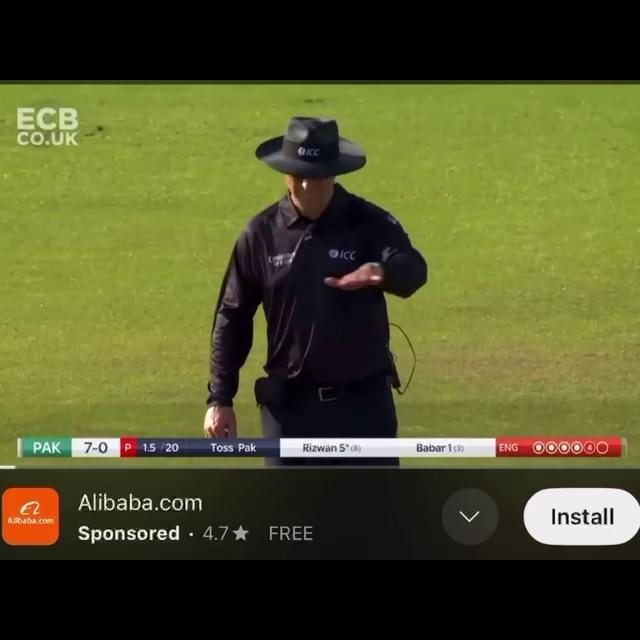umpire: (130, 105, 584, 426)
